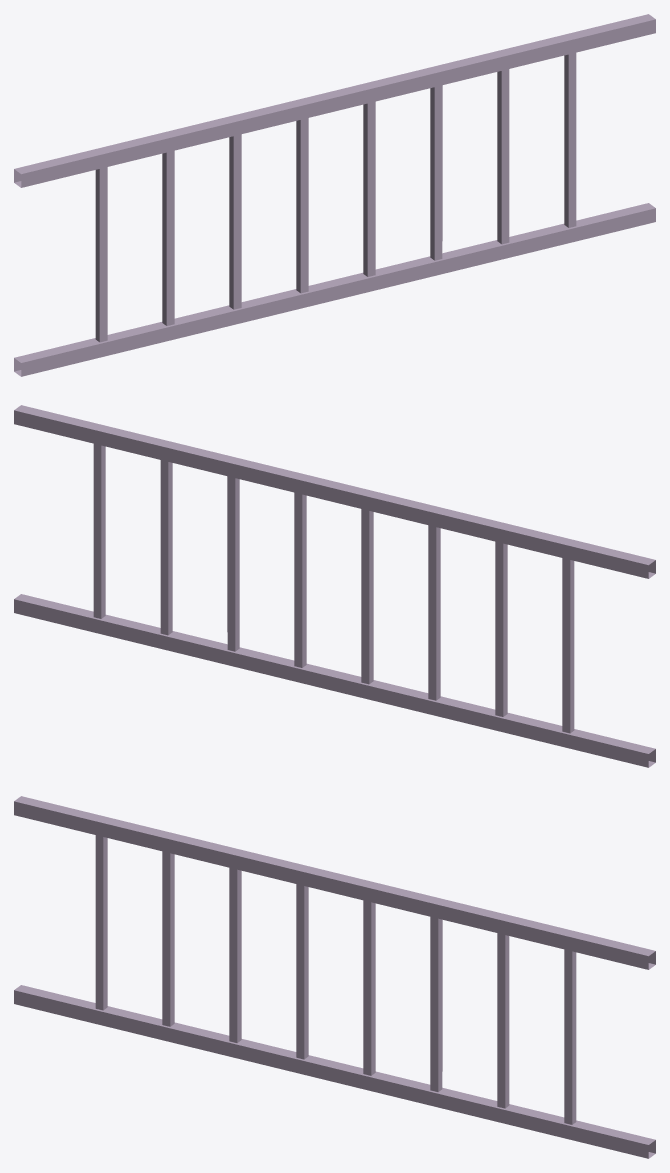
Rendered from fence_modguide.fbx.
The picture shows the model from 3 angles, top to bottom: view 1: azimuth 30°, elevation 25°; view 2: azimuth 150°, elevation 25°; view 3: azimuth 330°, elevation 25°; orthographic projection.
Visible parts, largest first — view 1: fence_modguide; view 2: fence_modguide; view 3: fence_modguide.
Part boxes in pixels (box(x1,y1,x2,y2)): fence_modguide: box(14, 14, 655, 376); fence_modguide: box(14, 405, 655, 767); fence_modguide: box(14, 796, 655, 1158).
Size of the model in its own units: 1 by 0.3051 by 0.0197.
